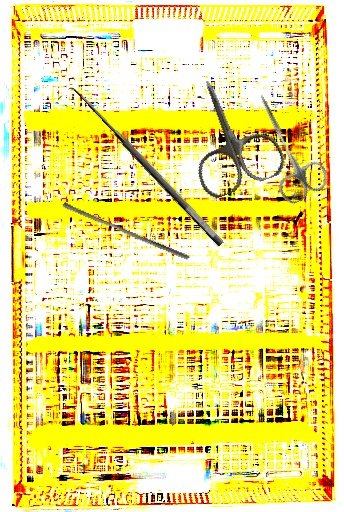Hook Surgical: (57, 79, 227, 260)
Iris Scissors: (167, 65, 290, 202), (237, 84, 333, 208)
Pusher: (59, 201, 193, 261)
